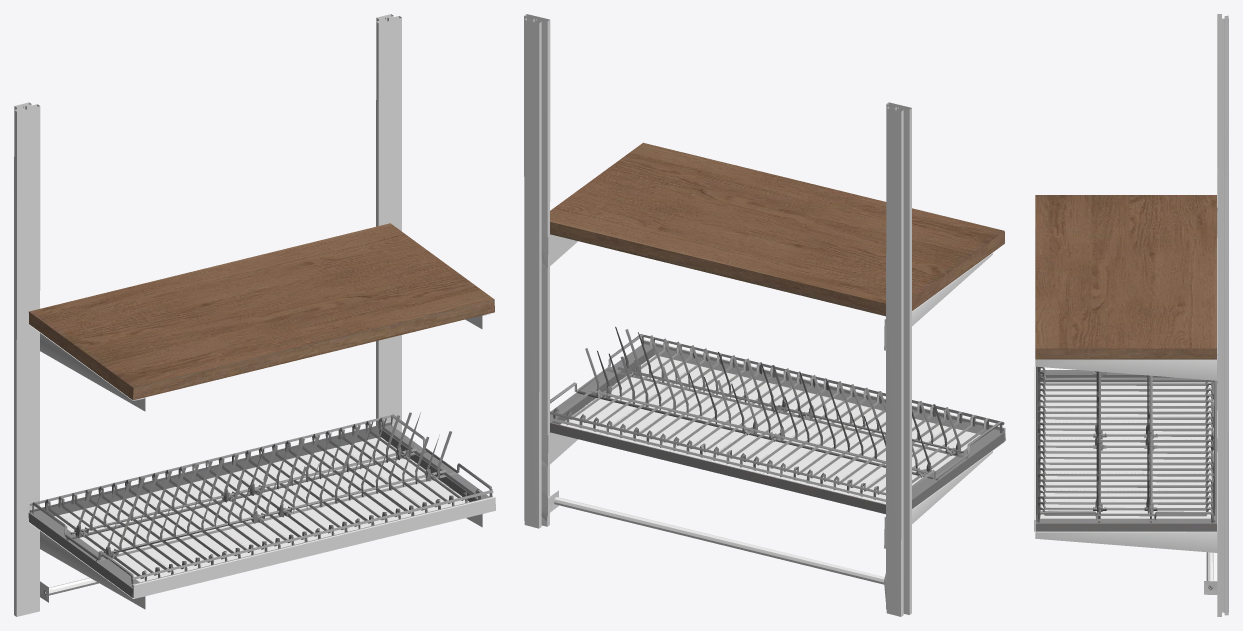
File: kungsfors_szyna_z_poka_szyna_ociekarka_09254323.glb
3 views of the same model, side by side, from view 1: azimuth 30°, elevation 25°; view 2: azimuth 150°, elevation 25°; view 3: azimuth 270°, elevation 25° (orthographic). The views are drawn at different scales.
Parts seen in each view (by area): view 1: kungsfors_szyna_z_poka_szyna_ociekarka_09254323; view 2: kungsfors_szyna_z_poka_szyna_ociekarka_09254323; view 3: kungsfors_szyna_z_poka_szyna_ociekarka_09254323.
Part boxes in pixels (x1,y1,x2,y2): kungsfors_szyna_z_poka_szyna_ociekarka_09254323: [14, 14, 495, 616]; kungsfors_szyna_z_poka_szyna_ociekarka_09254323: [524, 14, 1005, 616]; kungsfors_szyna_z_poka_szyna_ociekarka_09254323: [1034, 14, 1228, 616].
Size of the model in its own units: 0.6388 by 0.8003 by 0.3218.
1 material, 1 textured.
